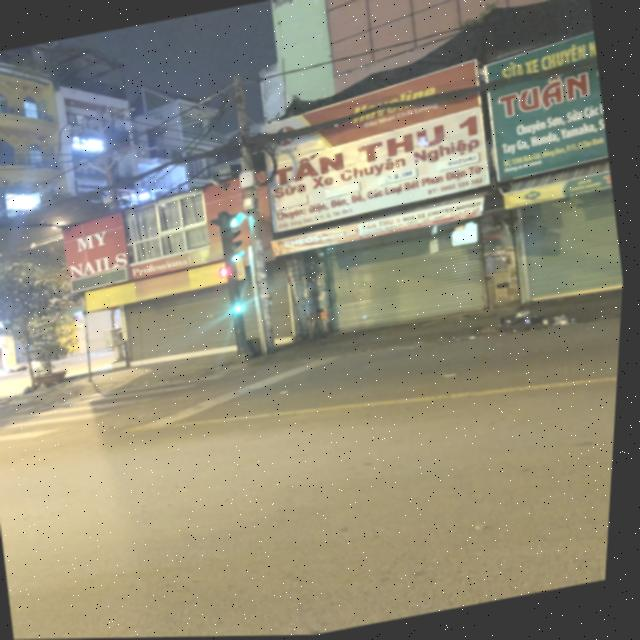Green: (219, 229, 252, 267), (230, 288, 252, 318)
